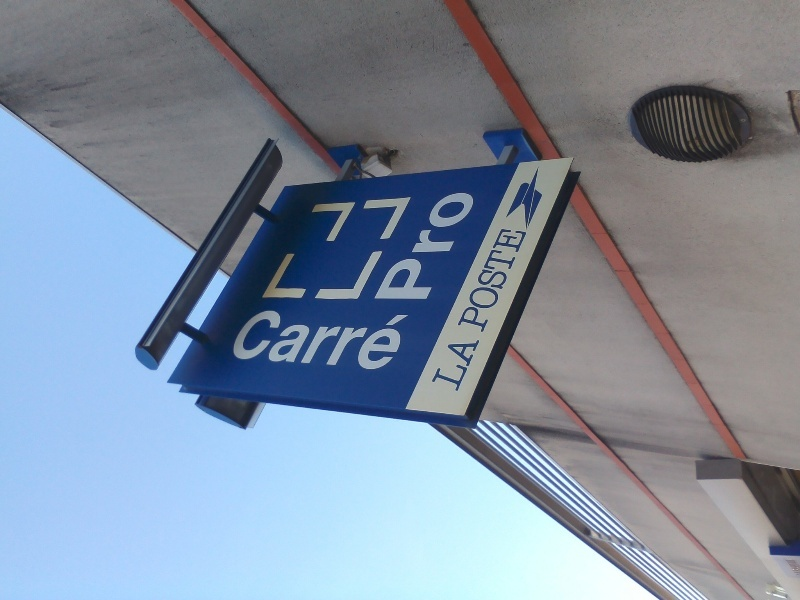text: (433, 183, 448, 304), (449, 183, 464, 304), (465, 183, 480, 304), (465, 226, 480, 333), (481, 226, 496, 333), (497, 226, 512, 333), (513, 226, 528, 333), (452, 226, 464, 333), (257, 307, 272, 376), (273, 307, 288, 376), (289, 307, 304, 376), (305, 307, 320, 376), (321, 307, 336, 376), (337, 307, 352, 376), (353, 307, 368, 376), (369, 307, 384, 376), (385, 307, 400, 376), (465, 334, 480, 394), (401, 307, 413, 376), (452, 334, 464, 394), (427, 183, 432, 304), (252, 307, 256, 376), (481, 183, 483, 304), (481, 334, 485, 394), (529, 226, 531, 333)
